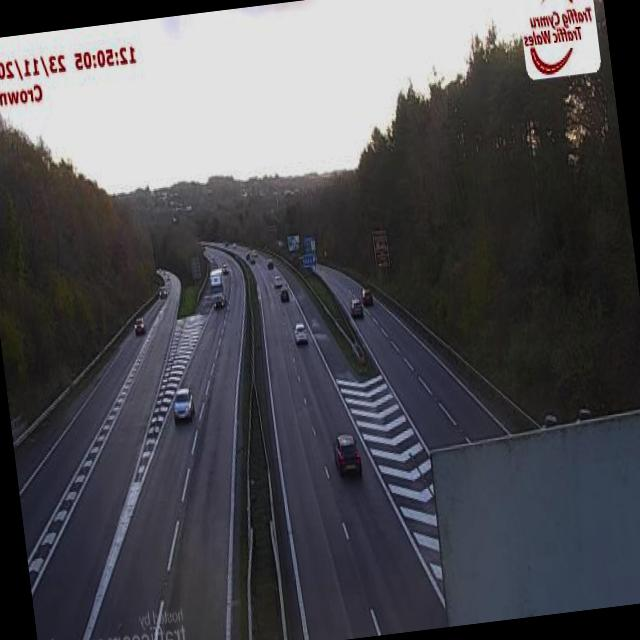foliage: (282, 28, 640, 419), (0, 116, 154, 415)
